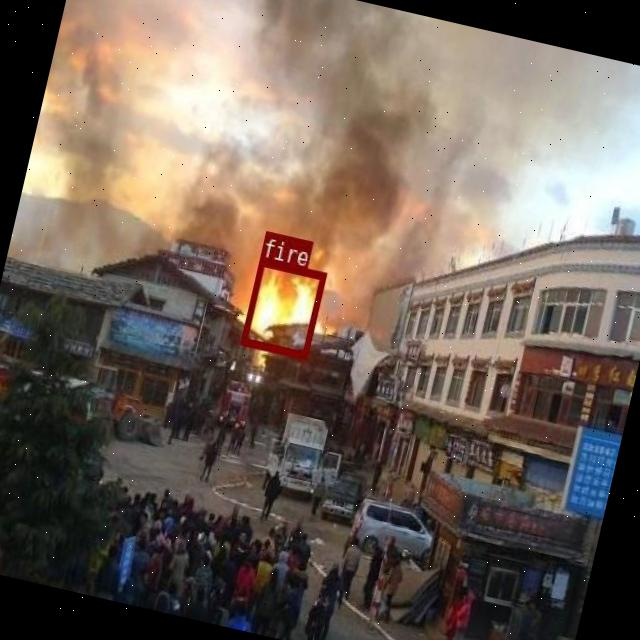fire: (240, 255, 325, 358)
